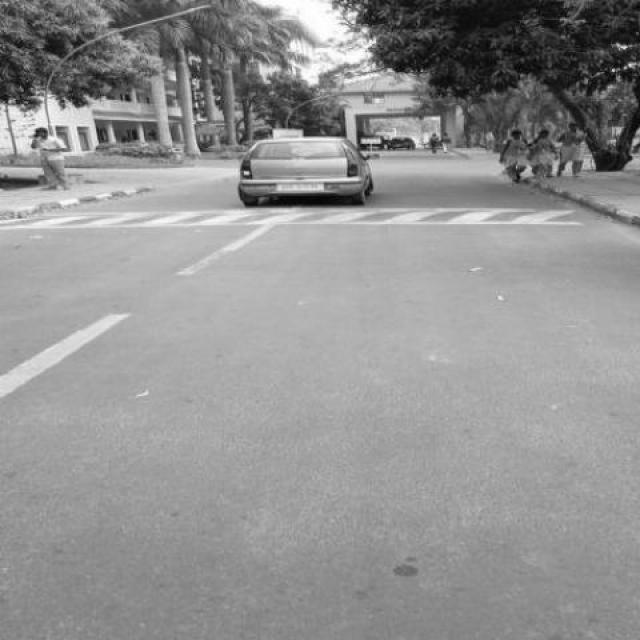Speed Bump: (1, 208, 612, 232)
